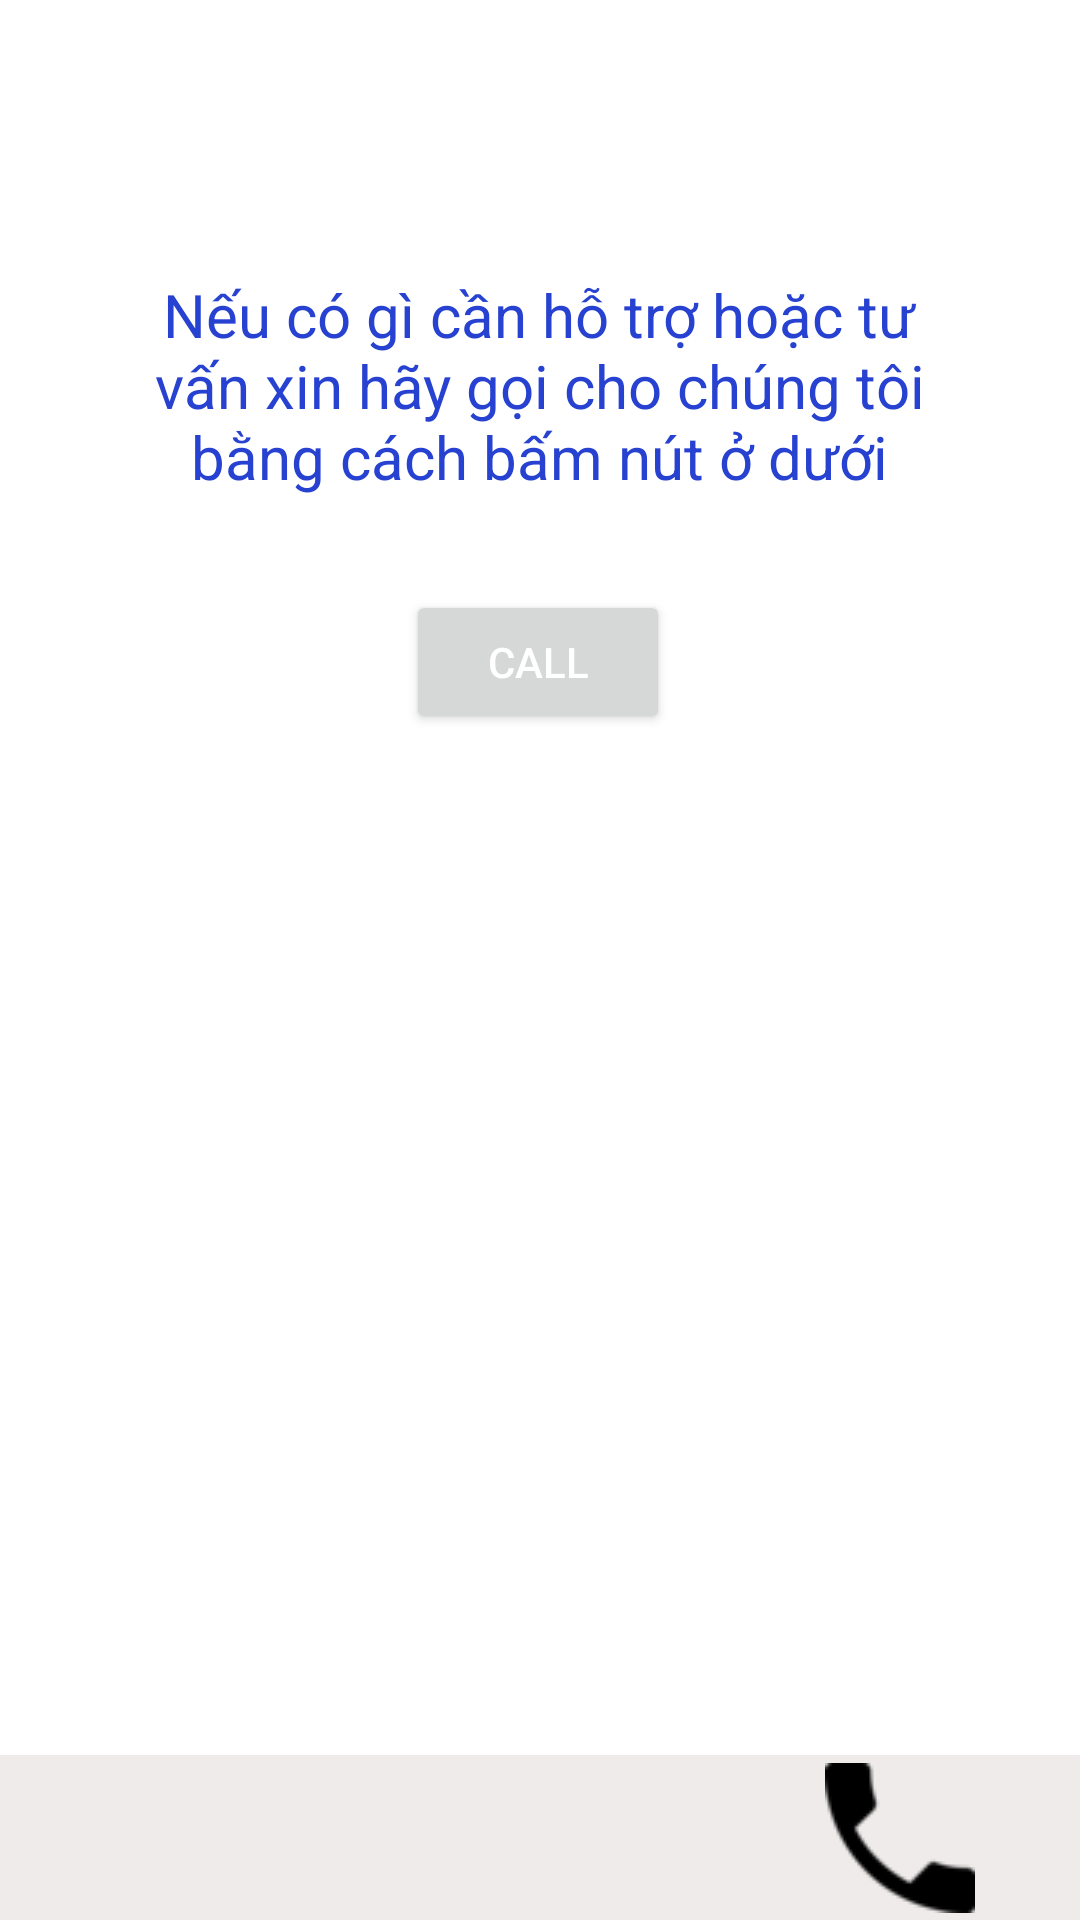

Icons on this 1080*1920 Android screen, each with the point to tap as [x,y]:
call: [900,1838]
